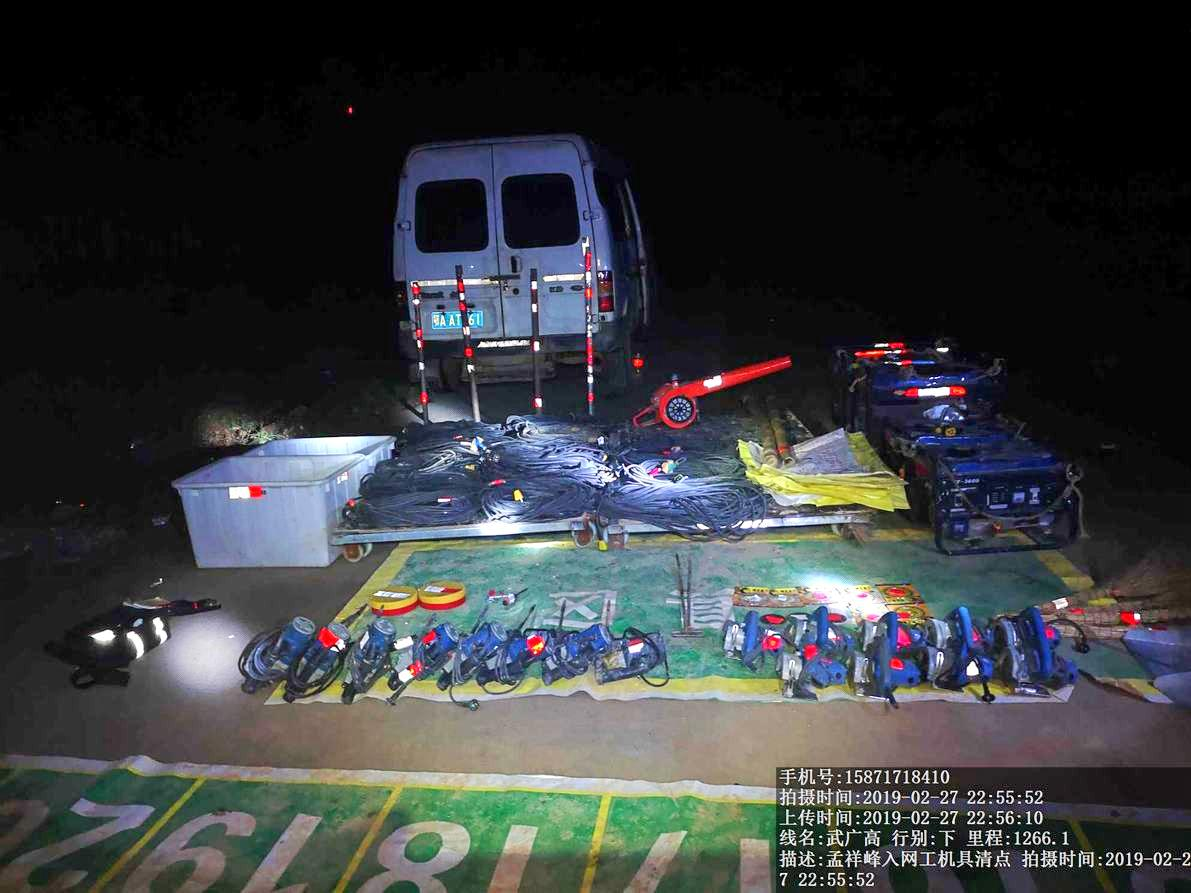BZD: (739, 441, 908, 514)
DJ: (904, 421, 1094, 555), (851, 359, 1030, 438)
DZ: (228, 620, 316, 706), (588, 613, 672, 689), (343, 625, 392, 705), (536, 616, 591, 683), (486, 618, 536, 683)
GFJ: (627, 356, 795, 429)
GJB: (34, 585, 222, 689)
JC: (364, 578, 418, 617), (419, 577, 469, 610)
T: (168, 452, 372, 573)
